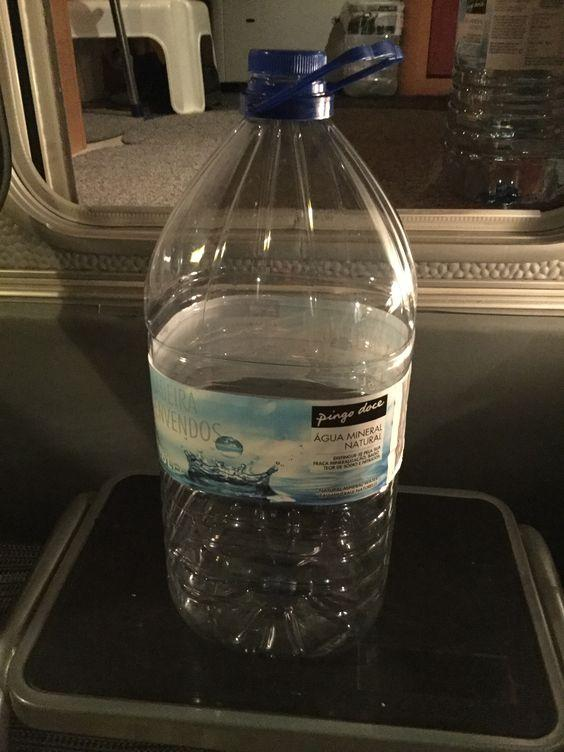HDPE: (237, 38, 404, 122)
PETE: (138, 122, 420, 665)
